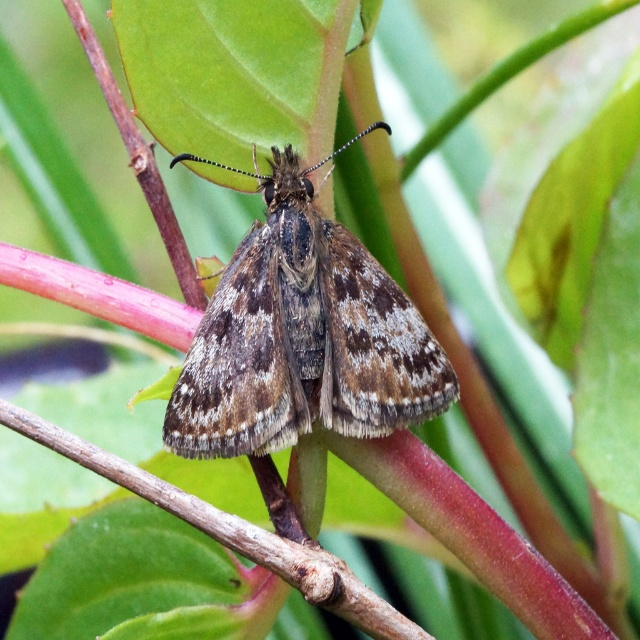Butterfly: (165, 121, 460, 460)
